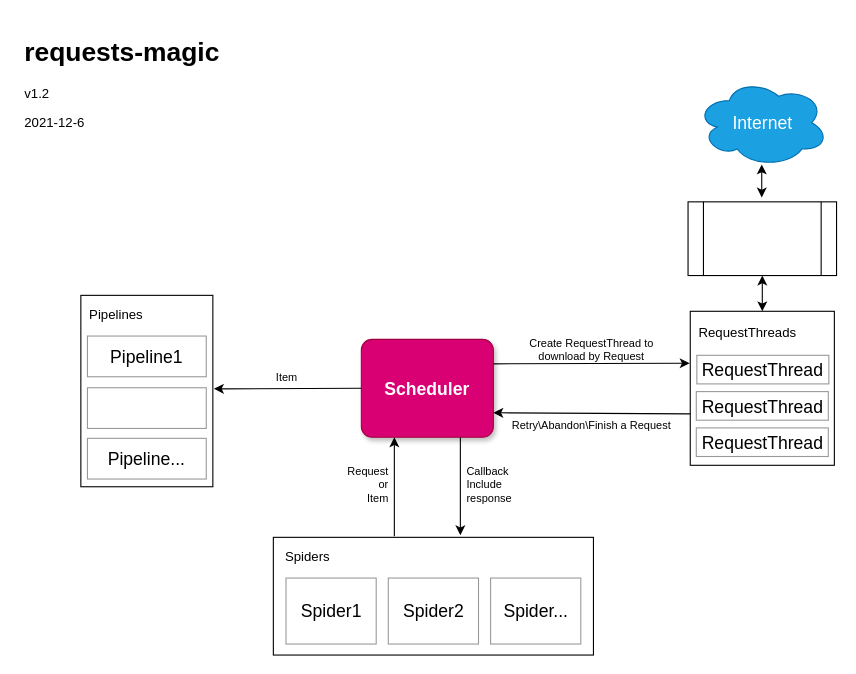
This 856x674 diagram has some shape labels left out. Here are the shapes that lost their labels. From the top down, the centre of each, then its label:
At (x=762, y=238): "Downloader Downloader_filter".
At (x=146, y=407): "Pipeline2".
